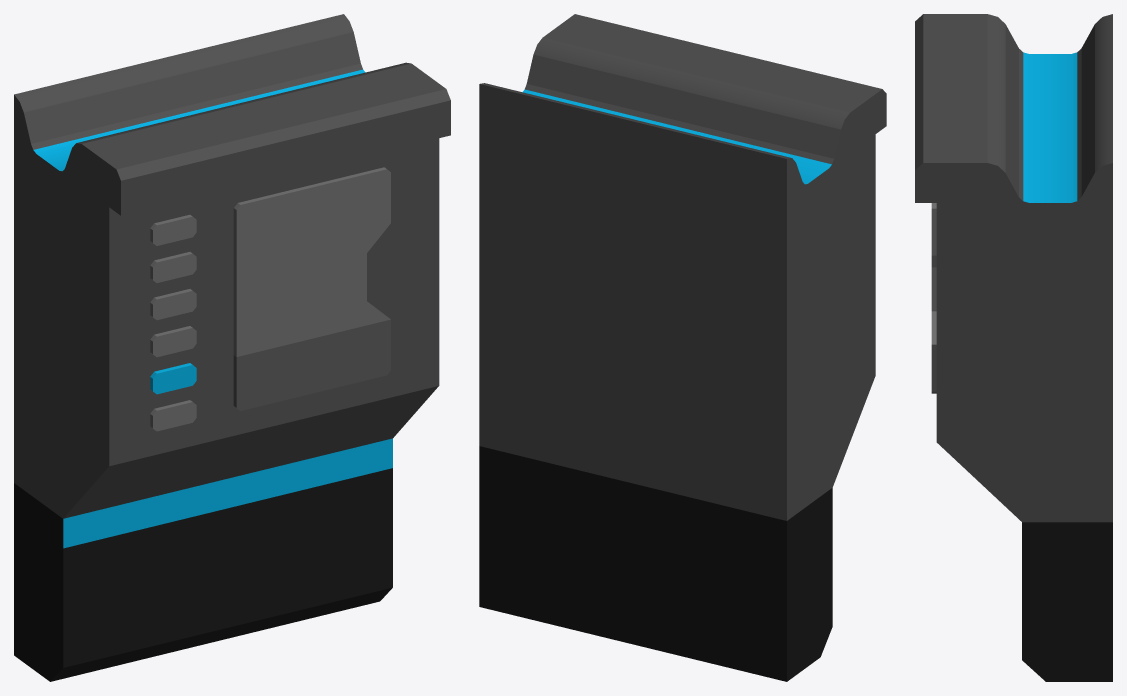
File: Floor_Edge_01H.fbx
3 views of the same model, side by side, from view 1: azimuth 30°, elevation 25°; view 2: azimuth 150°, elevation 25°; view 3: azimuth 270°, elevation 25° (orthographic). The views are drawn at different scales.
Visible parts, largest first — view 1: Floor_Edge_01H; view 2: Floor_Edge_01H; view 3: Floor_Edge_01H.
Part boxes in pixels (bbox=[...]): Floor_Edge_01H: bbox=[14, 14, 450, 681]; Floor_Edge_01H: bbox=[479, 14, 886, 681]; Floor_Edge_01H: bbox=[915, 14, 1112, 681].
Bounding box in the file's own units: 400 × 650 × 225.
